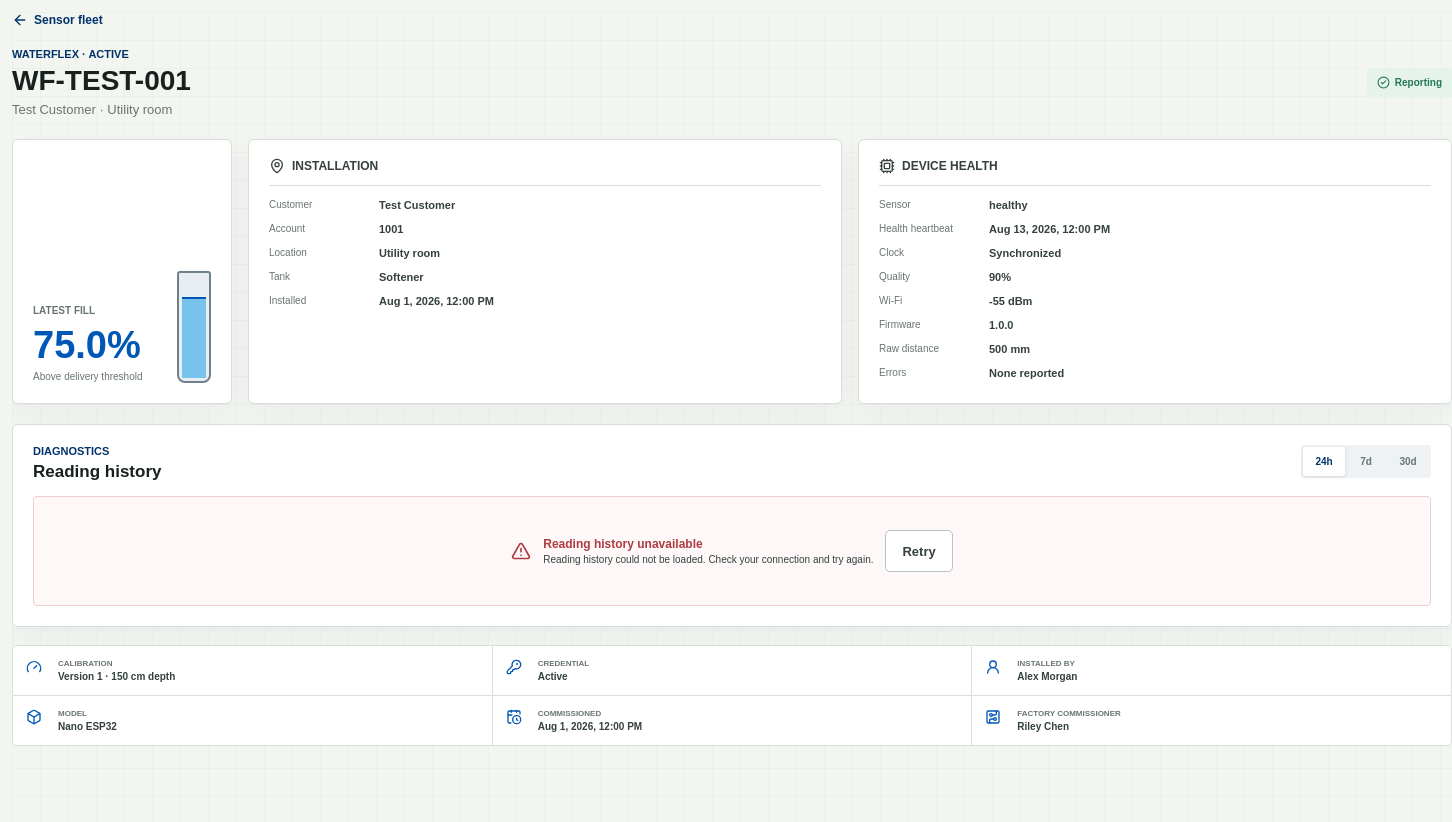
DeviceDetailPage › retries only reading history and displays the recovered result
Click the button "Retry". click: coordinates (919, 551)
box: left=886, top=530, right=953, bottom=572
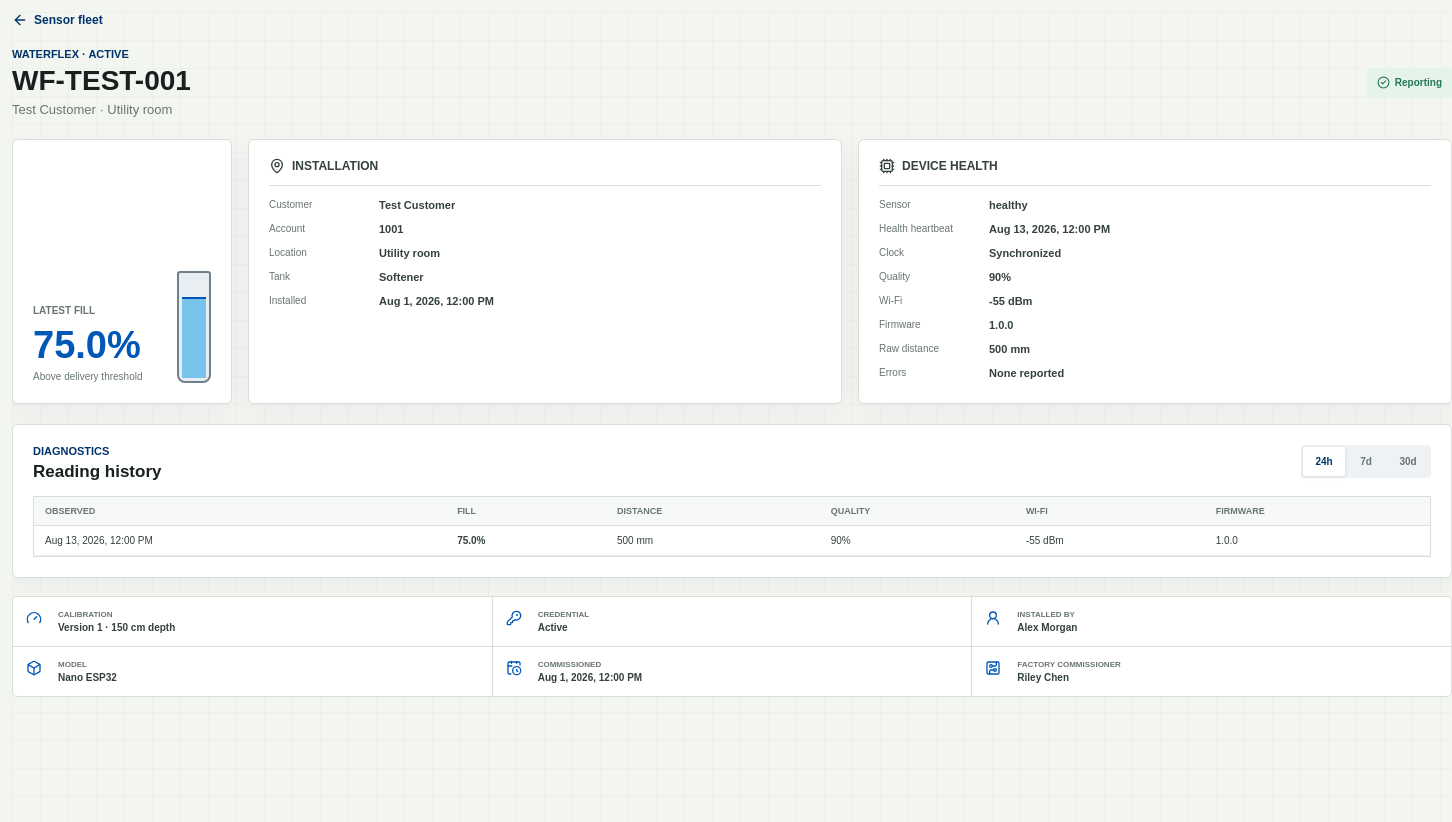
Expected: the text "Reading history unavailable" is gone
